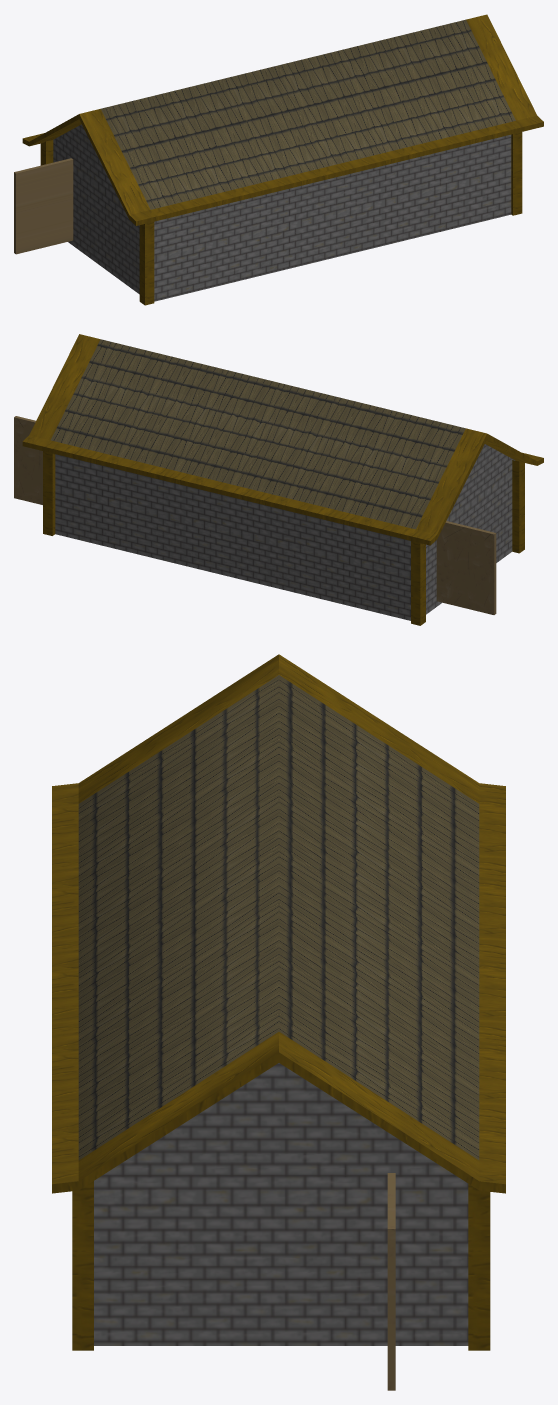
The model's file is restroom.fbx.
The picture shows the model from 3 angles, top to bottom: view 1: azimuth 30°, elevation 25°; view 2: azimuth 150°, elevation 25°; view 3: azimuth 270°, elevation 25°; orthographic projection. The views are drawn at different scales.
Visible parts, largest first — view 1: restroom1; view 2: restroom1; view 3: restroom1.
Part boxes in pixels (x1,y1,x2,y2): restroom1: [14, 14, 543, 305]; restroom1: [14, 334, 543, 625]; restroom1: [52, 654, 505, 1390].
Bounding box in the file's own units: 1337 × 418 × 547.
